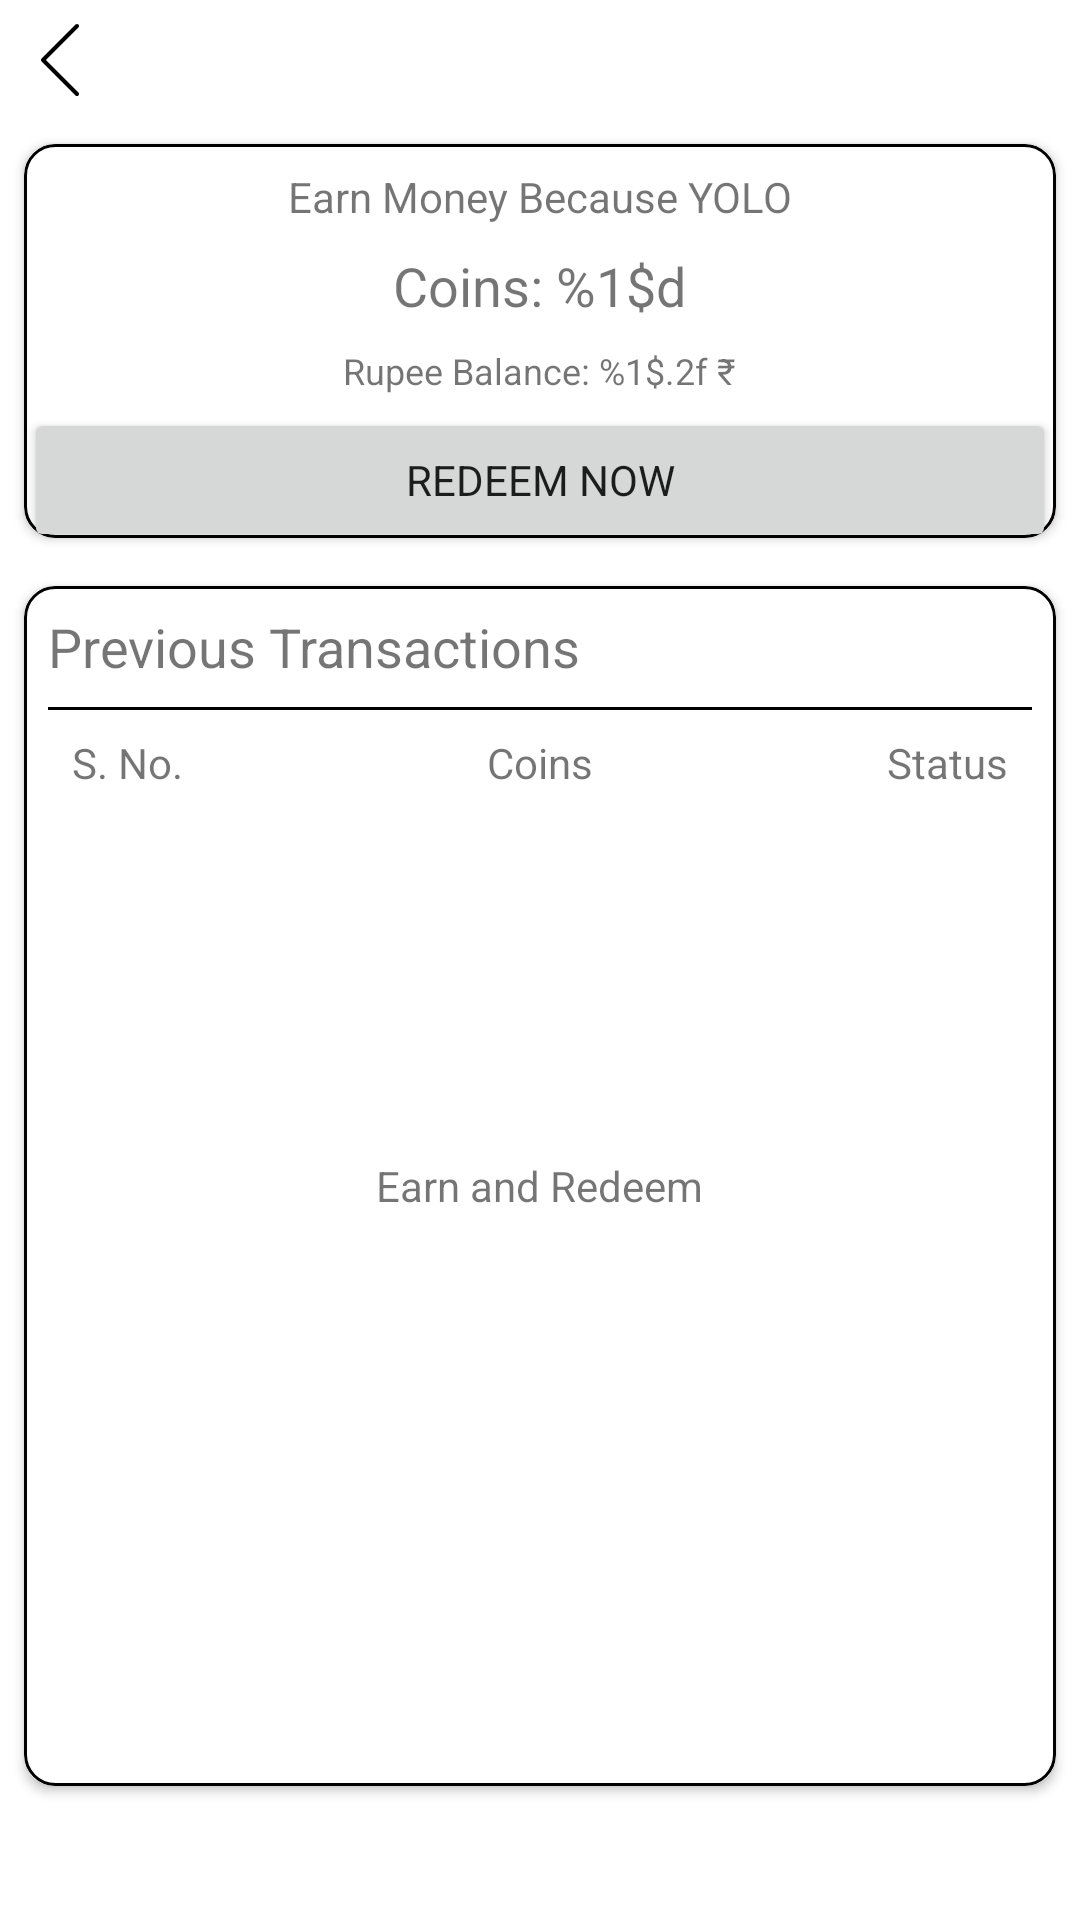

Icon bounding boxes for this 1080x1920 phone screenshot, format (x1, y1, x2, y2):
Back Button: (41, 24, 79, 96)
